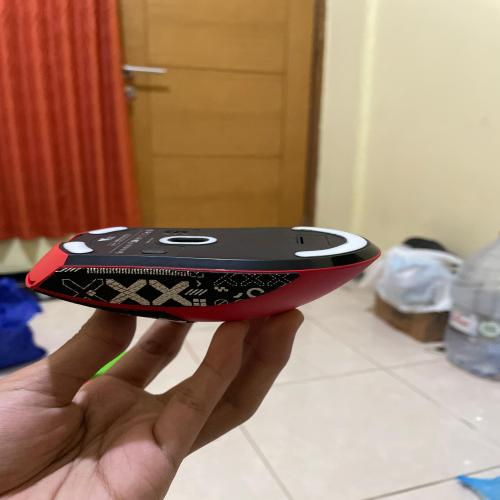Mouse: (17, 212, 394, 333)
